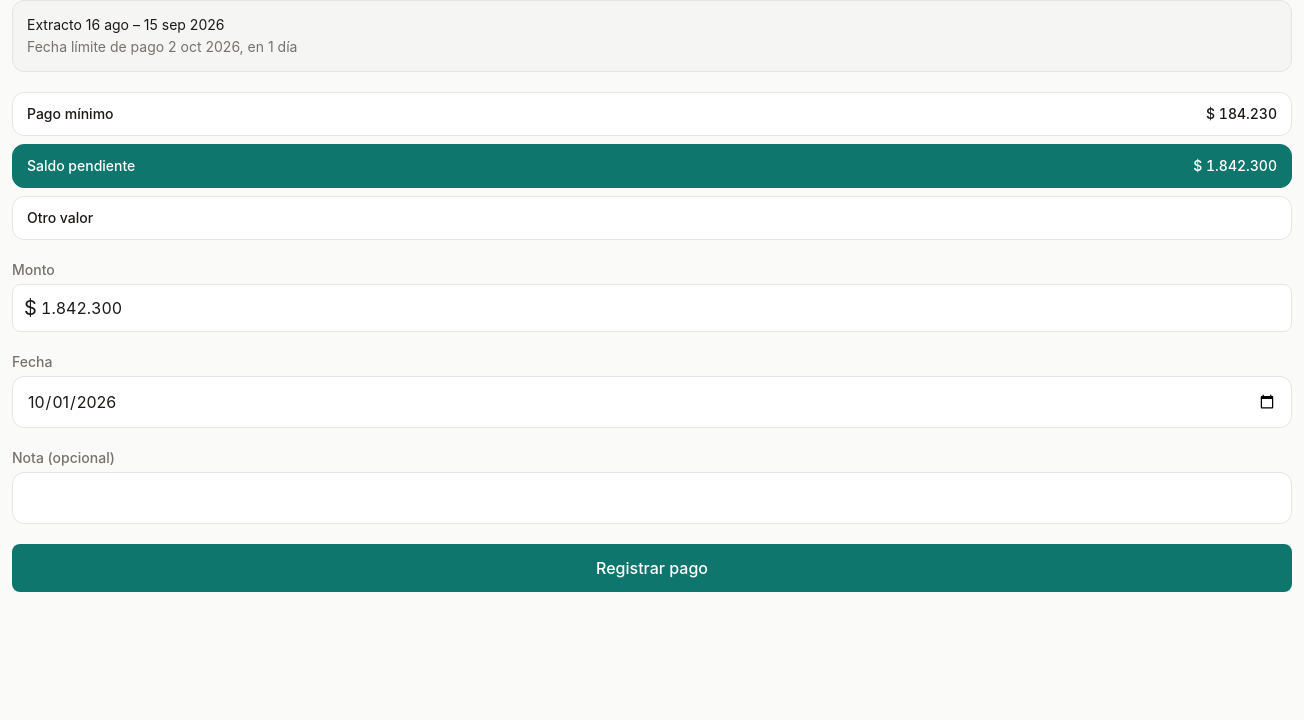
Test: PaymentForm › does not crash or enable submit when the payment date is cleared
expect the button "Registrar pago" is enabled: met, box [12, 544, 1292, 592]
Clear the date field labelled "Fecha" at (652, 402), box [12, 376, 1292, 428]
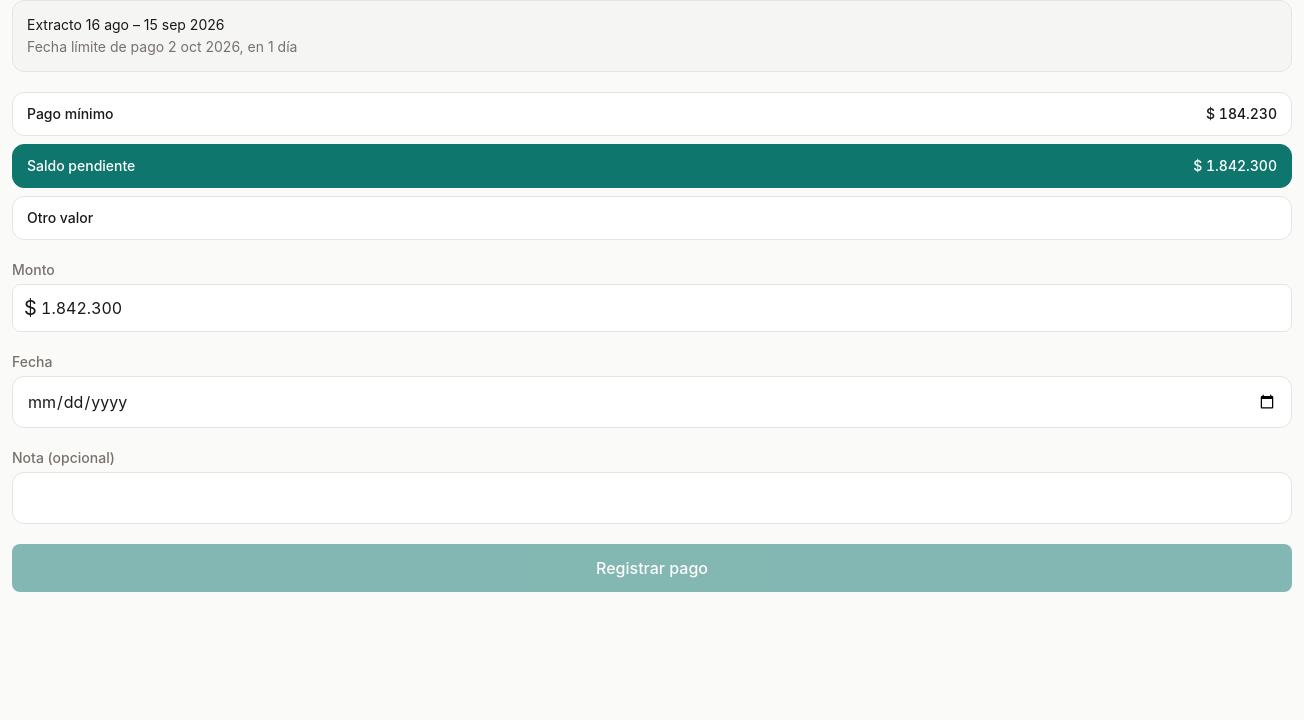
expect the button "Registrar pago" is disabled: met, box [12, 544, 1292, 592]
